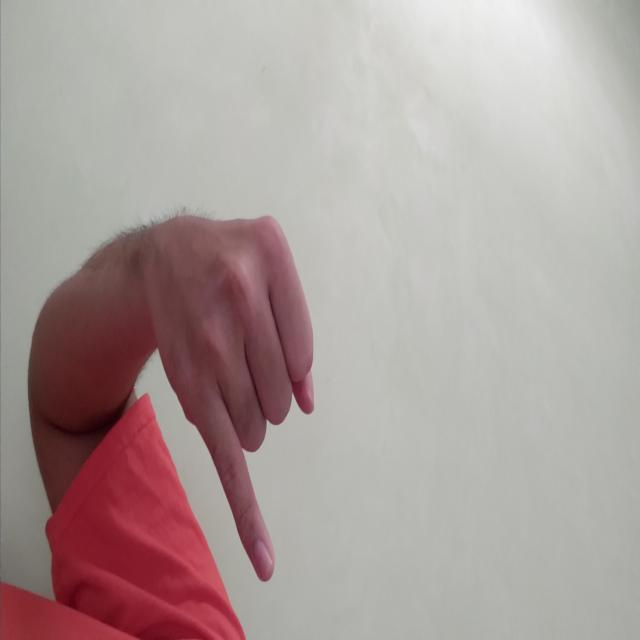J: (210, 324, 584, 493)
